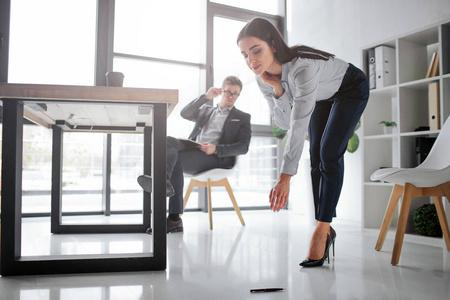bending: (241, 23, 371, 272), (158, 74, 253, 233)
